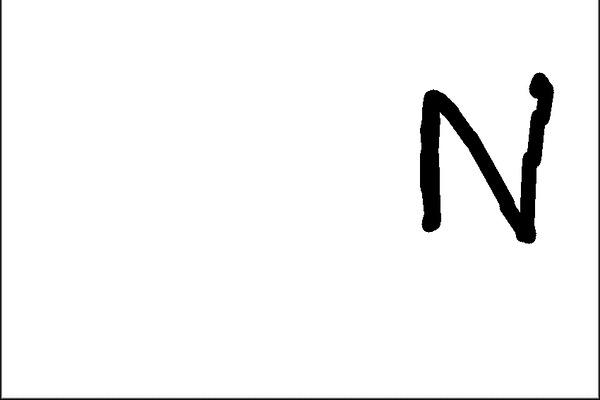N: (409, 69, 557, 247)
